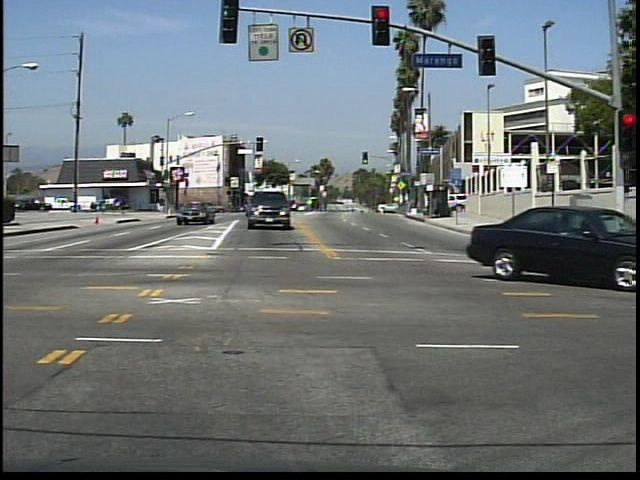person: (119, 195, 131, 219)
